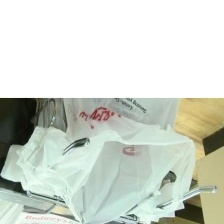plastic_bag: (1, 97, 196, 223)
